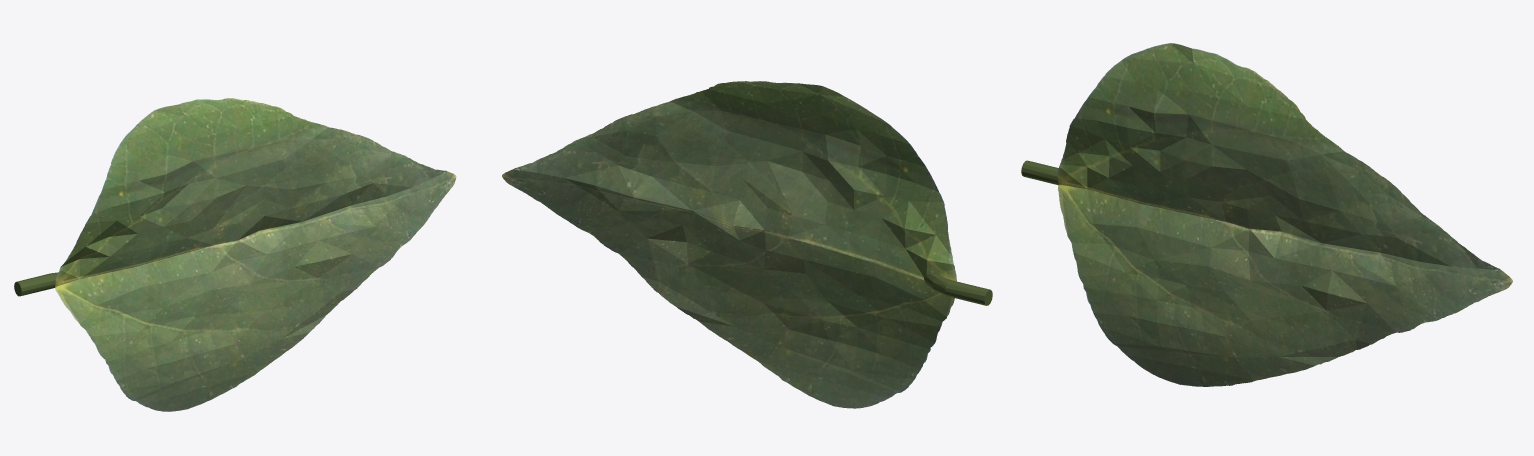
The model's file is BeanLeaf_tip.obj.
3 views of the same model, side by side, from view 1: azimuth 30°, elevation 25°; view 2: azimuth 150°, elevation 25°; view 3: azimuth 330°, elevation 25° (orthographic). The views are drawn at different scales.
Visible parts, largest first — view 1: Plane, Cylinder; view 2: Plane, Cylinder; view 3: Plane, Cylinder.
Part boxes in pixels (bbox=[...]): Plane: bbox=[55, 98, 456, 411]; Cylinder: bbox=[14, 272, 58, 296]; Plane: bbox=[502, 81, 956, 408]; Cylinder: bbox=[924, 273, 992, 305]; Plane: bbox=[1057, 43, 1512, 386]; Cylinder: bbox=[1021, 160, 1058, 184].
Bounding box in the file's own units: 1.31 × 0.8774 × 0.1586.
Materials: 2 (1 with a texture image).
